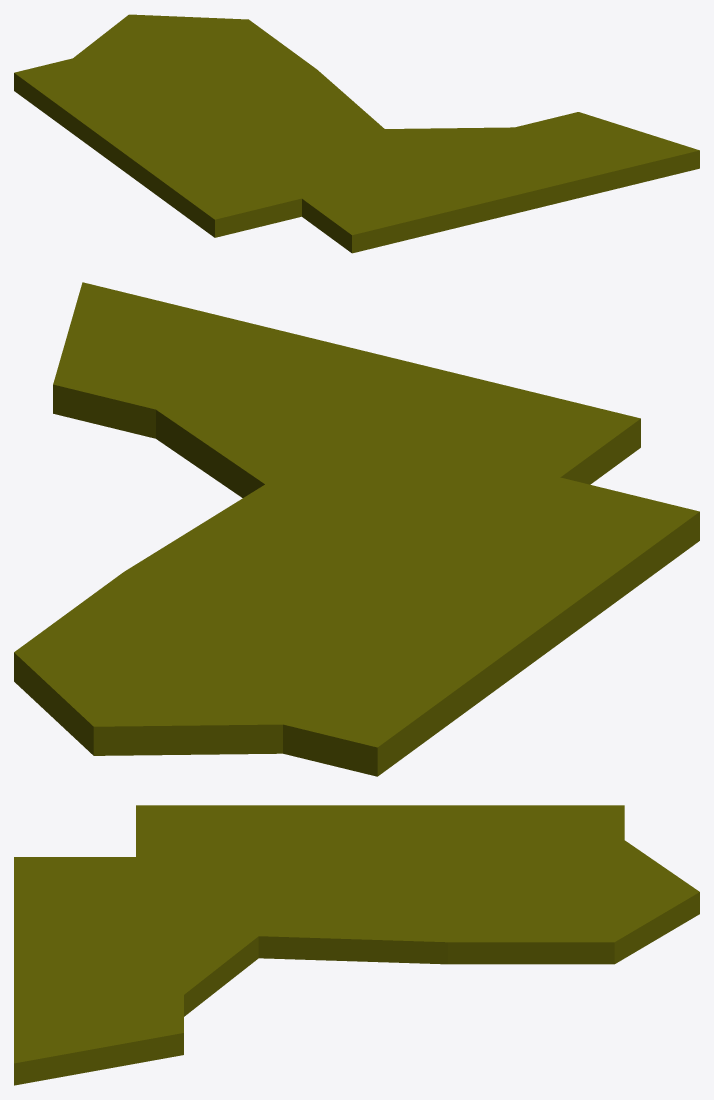
File: x_0_boloto_16_1_rmstrd.fbx
The picture shows the model from 3 angles, top to bottom: view 1: azimuth 30°, elevation 25°; view 2: azimuth 150°, elevation 25°; view 3: azimuth 270°, elevation 25°; orthographic projection. The views are drawn at different scales.
Parts seen in each view (by area): view 1: x_0_boloto_16_1_rmstrd1; view 2: x_0_boloto_16_1_rmstrd1; view 3: x_0_boloto_16_1_rmstrd1.
Part boxes in pixels (x1,y1,x2,y2): x_0_boloto_16_1_rmstrd1: (14, 14, 699, 253); x_0_boloto_16_1_rmstrd1: (14, 282, 699, 776); x_0_boloto_16_1_rmstrd1: (14, 805, 699, 1085).
Size of the model in its own units: 5 by 0.2 by 5.62.
